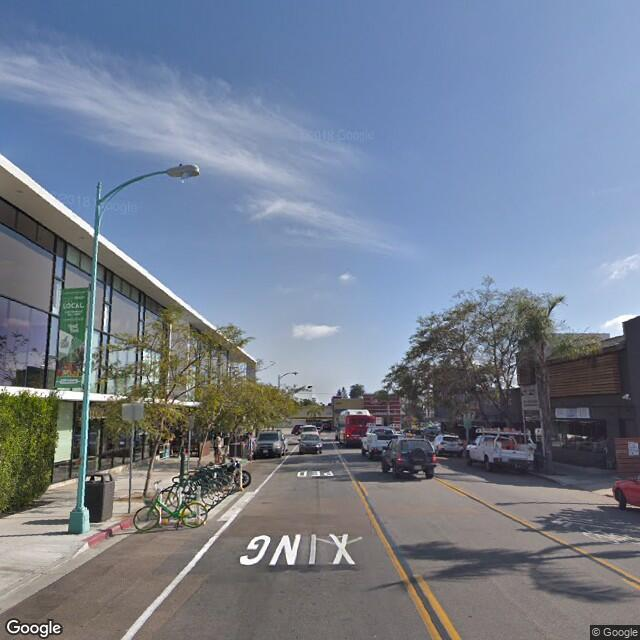light: (165, 163, 202, 178)
road line: (377, 517, 467, 640)
window: (13, 244, 54, 377)
